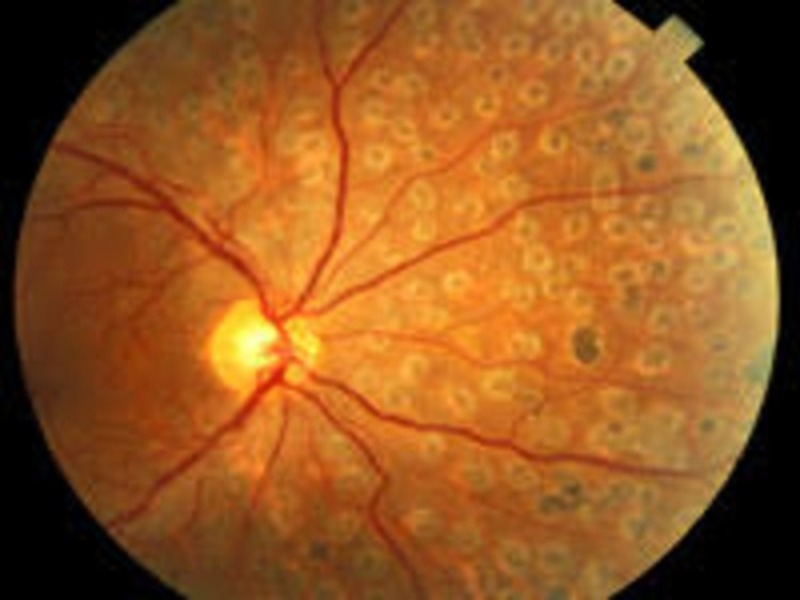Optic Cup: (207, 299, 274, 391)
Optic Disc: (194, 284, 313, 404)
